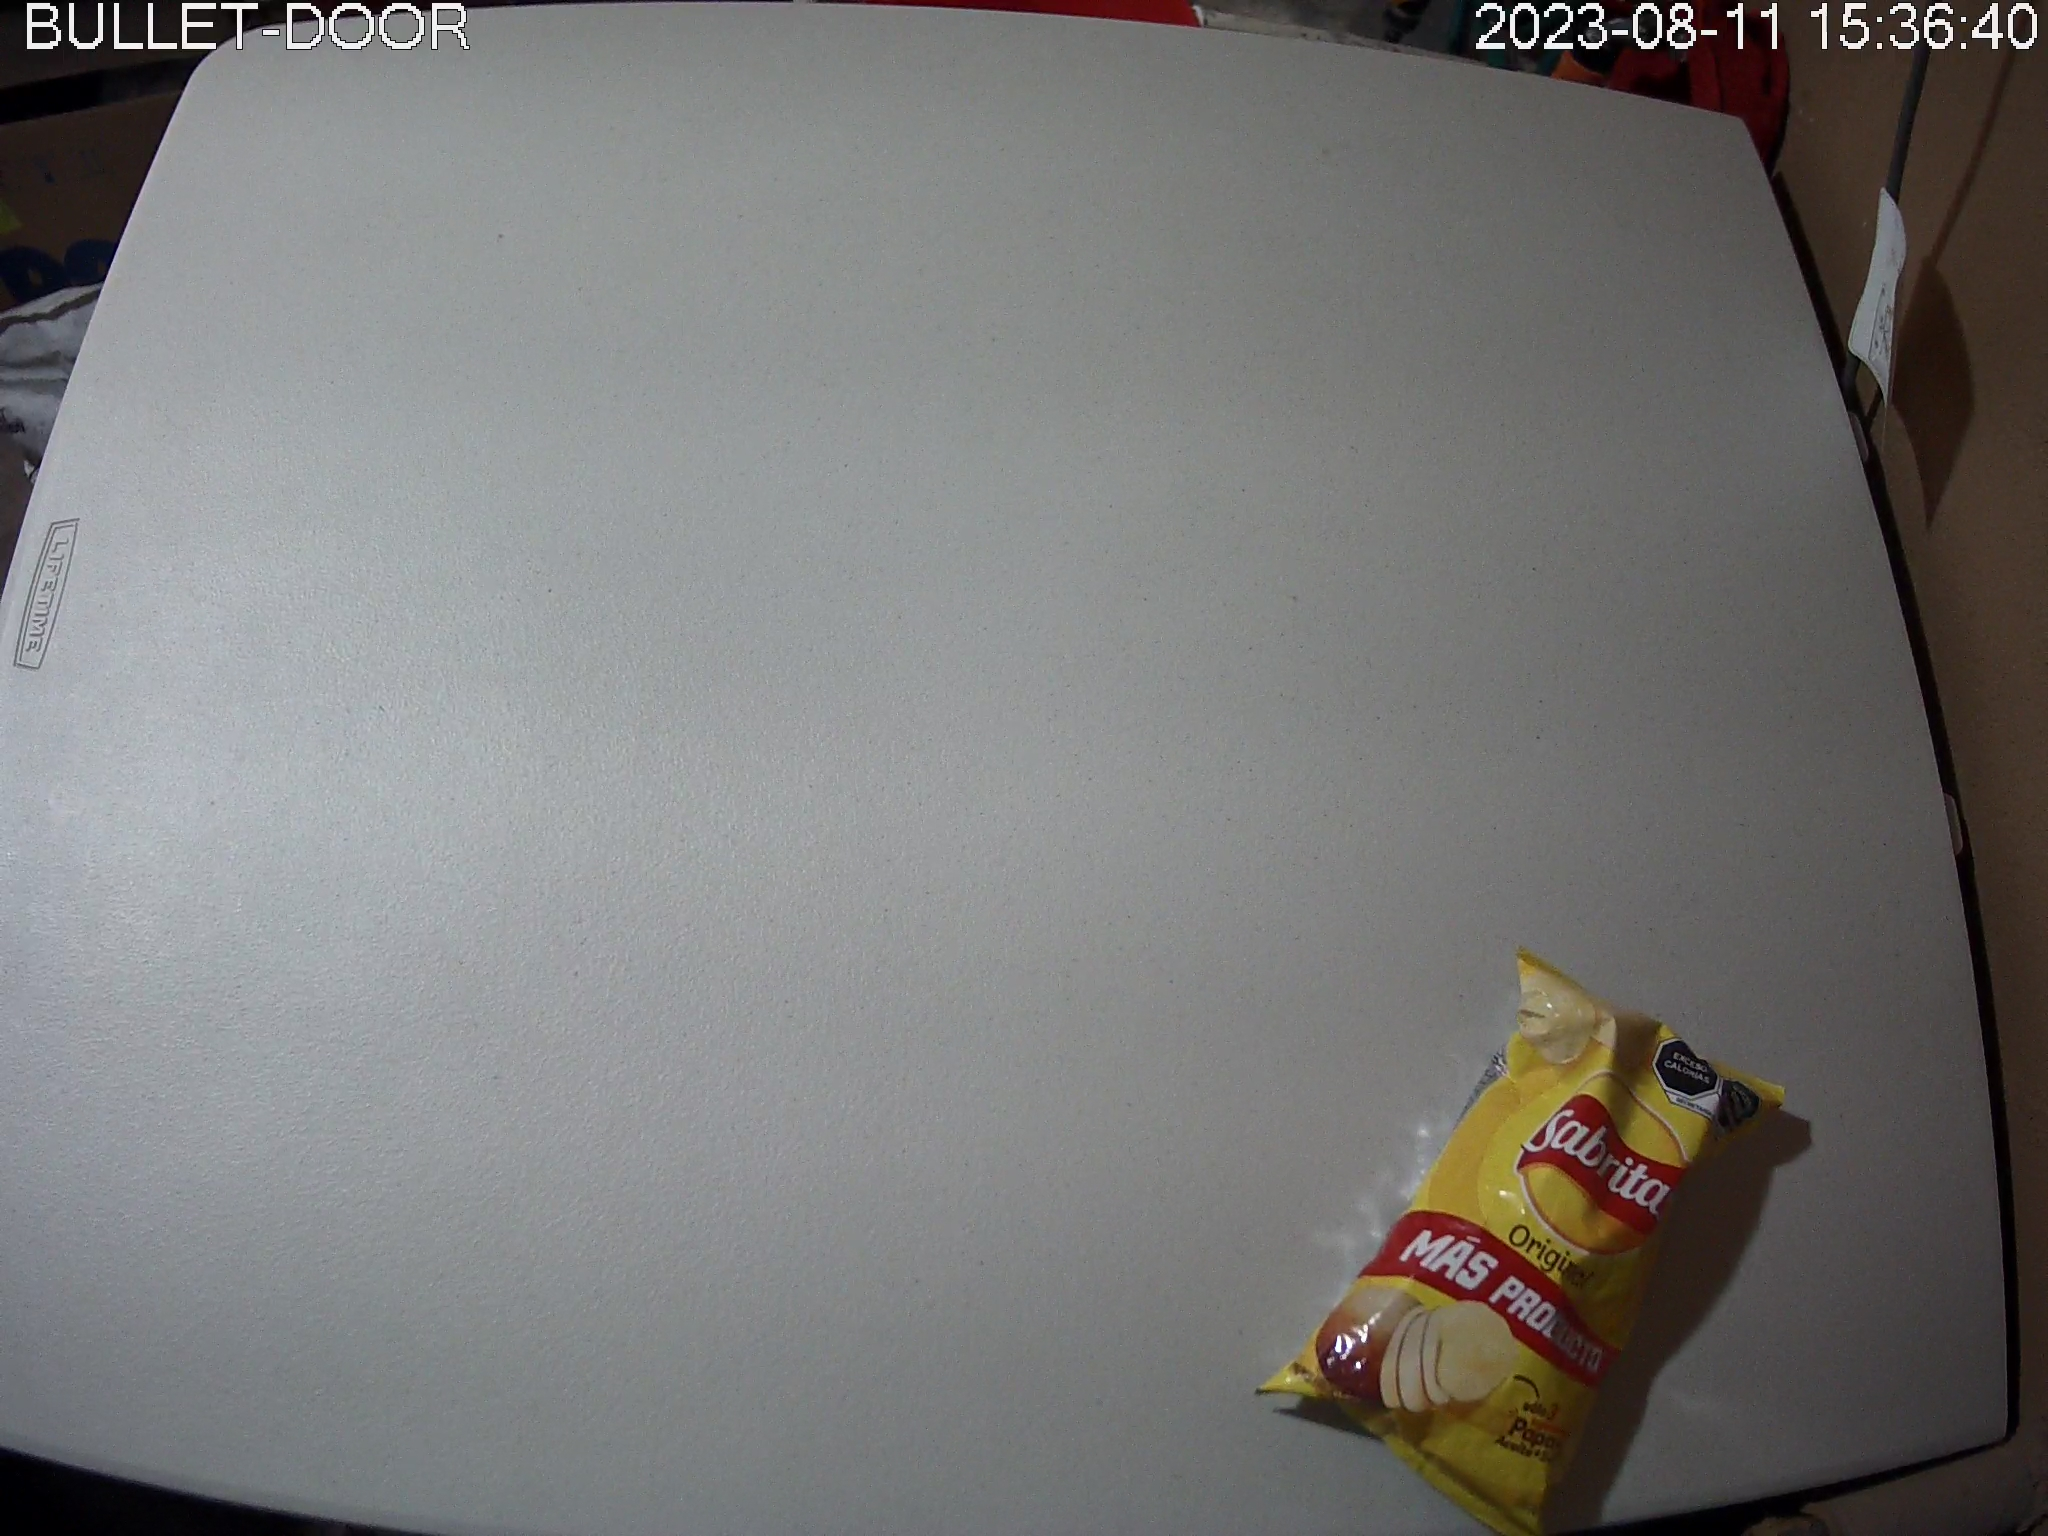Sabritas_45_F: (1256, 945, 1788, 1536)
